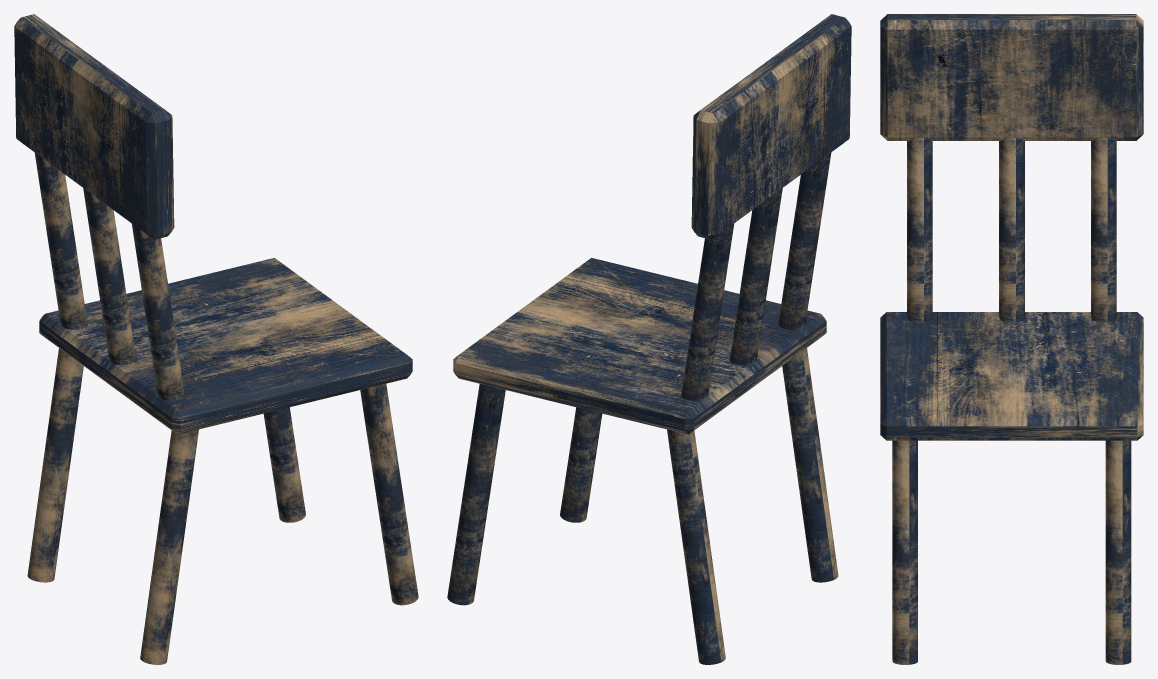
File: WoodenChair.fbx
The picture shows the model from 3 angles, left to right: view 1: azimuth 30°, elevation 25°; view 2: azimuth 150°, elevation 25°; view 3: azimuth 270°, elevation 25°; orthographic projection. The views are drawn at different scales.
Visible parts, largest first — view 1: bottom, bottom1, chaircylinders6, chaircylinders7, chaircylinders4, chaircylinders2, chaircylinders3, chaircylinders1, chaircylinders5; view 2: bottom, bottom1, chaircylinders7, chaircylinders6, chaircylinders5, chaircylinders3, chaircylinders2, chaircylinders1, chaircylinders4; view 3: bottom, bottom1, chaircylinders5, chaircylinders4, chaircylinders1, chaircylinders2, chaircylinders3.
Part boxes in pixels (x1,y1,x2,y2): bottom: [39, 258, 412, 434]; bottom1: [14, 14, 174, 239]; chaircylinders6: [140, 429, 198, 664]; chaircylinders7: [27, 348, 83, 582]; chaircylinders4: [360, 384, 418, 605]; chaircylinders2: [131, 223, 184, 400]; chaircylinders3: [34, 152, 87, 329]; chaircylinders1: [83, 188, 136, 365]; chaircylinders5: [263, 407, 305, 522]; bottom: [453, 258, 826, 434]; bottom1: [691, 14, 851, 239]; chaircylinders7: [667, 429, 725, 664]; chaircylinders6: [782, 348, 838, 582]; chaircylinders5: [447, 384, 505, 605]; chaircylinders3: [681, 223, 734, 400]; chaircylinders2: [778, 152, 831, 329]; chaircylinders1: [729, 188, 782, 365]; chaircylinders4: [560, 407, 602, 522]; bottom: [880, 312, 1143, 440]; bottom1: [880, 14, 1143, 140]; chaircylinders5: [1105, 440, 1131, 664]; chaircylinders4: [892, 440, 917, 664]; chaircylinders1: [999, 137, 1024, 322]; chaircylinders2: [907, 137, 932, 322]; chaircylinders3: [1091, 137, 1116, 322].
Bounding box in the file's own units: 1.16 × 2.21 × 1.
